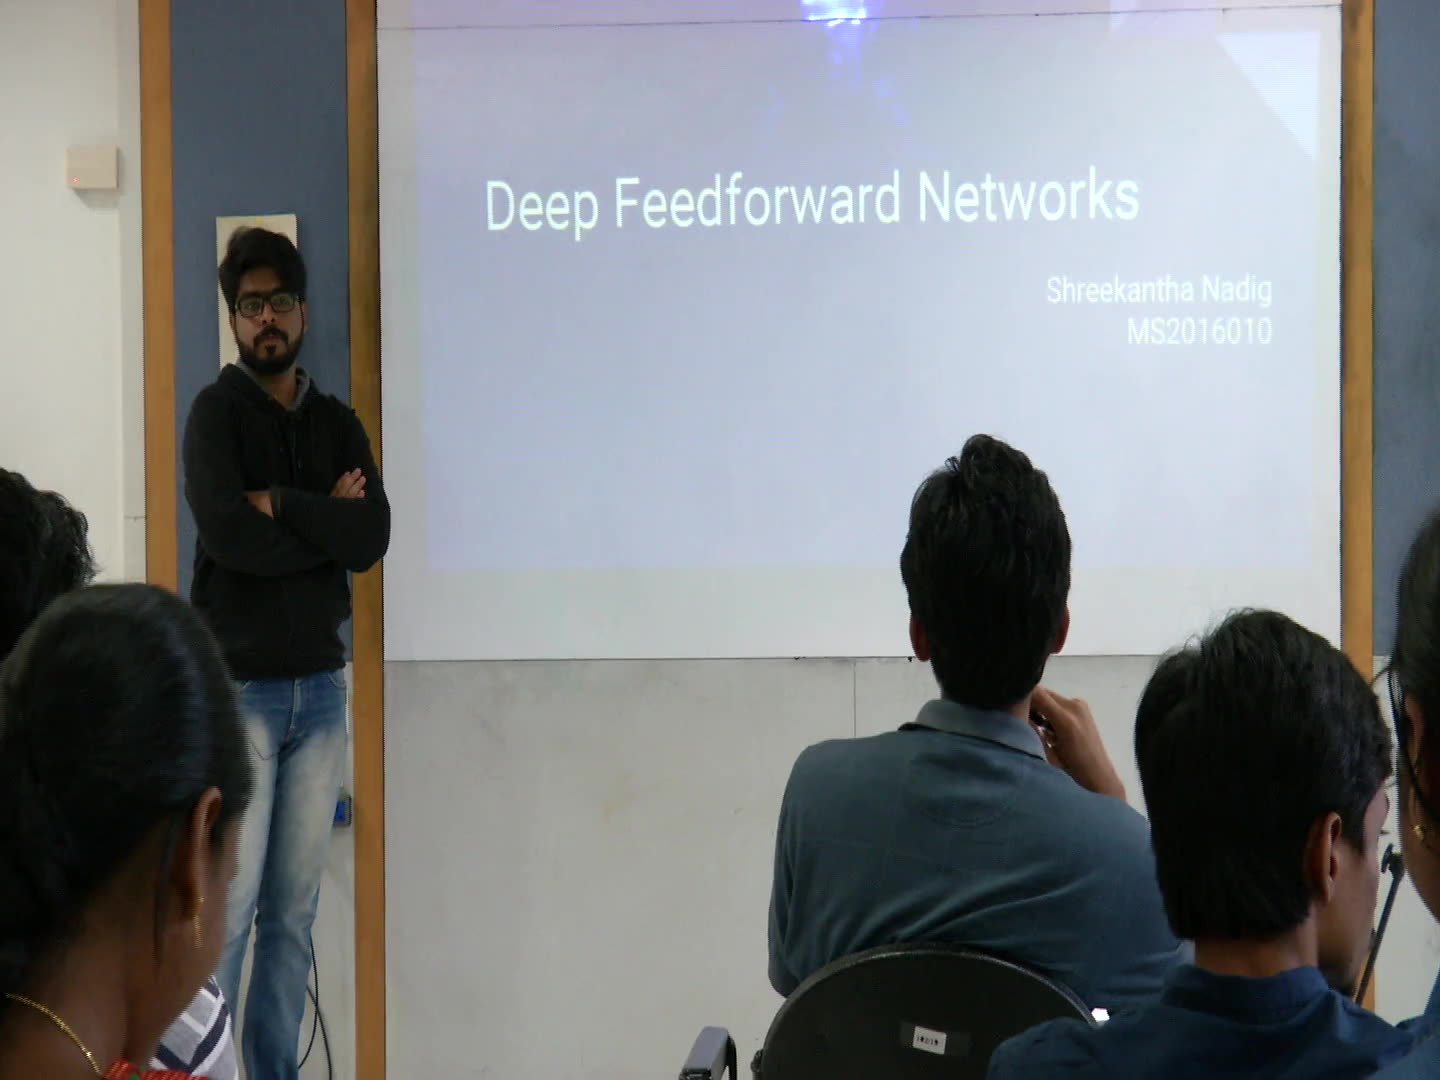slide: (414, 5, 1322, 566)
